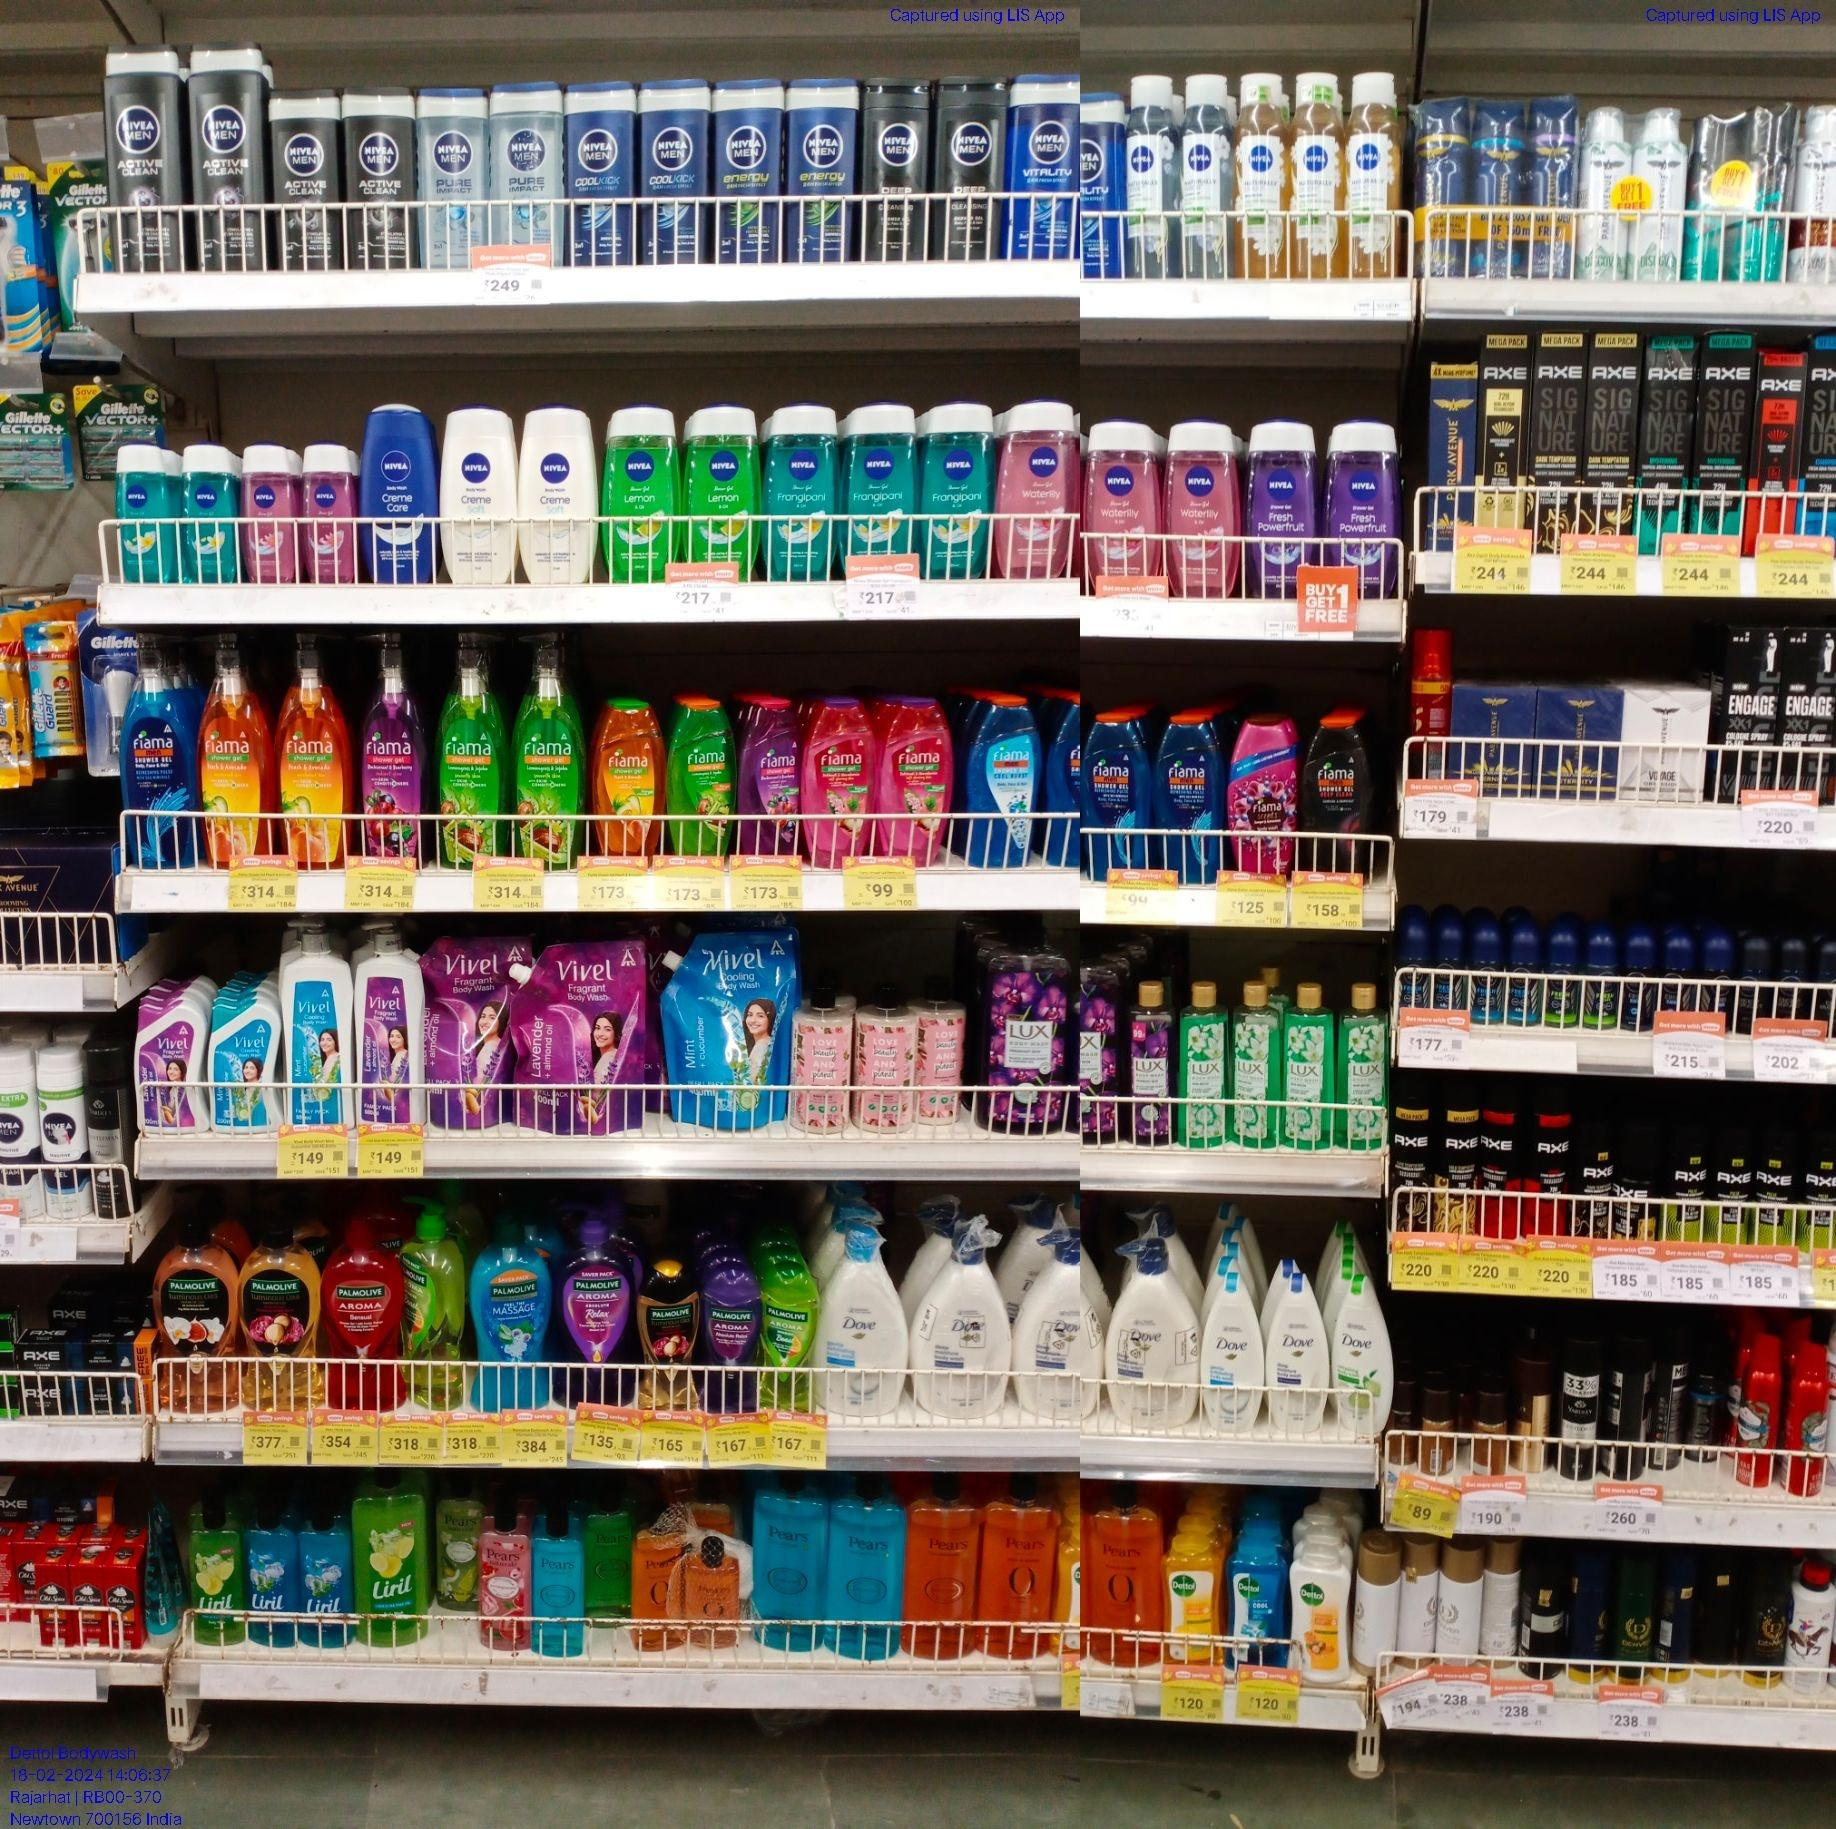Dettol_Bodywash_Cool: (1231, 1528, 1287, 1665)
Dettol_Bodywash_Refresh: (1163, 1526, 1225, 1665)
Dettol_Nourish_Body_Wash_250ML: (1290, 1543, 1349, 1682)
Dove_Deep_Moisture_Body_Wash_250ML: (1266, 1271, 1328, 1435)
Dove_Gentle_Exfoliating_Body_Wash_250ML: (1201, 1271, 1258, 1432)
Dove_Refreshing_Body_Wash_250ML: (1335, 1271, 1392, 1437)
Fiama_Shower_Gel_Lemongrass_and_Jojoba_250ML: (667, 695, 734, 858)
Fiama_Shower_Gel_Patchouli_and_Macadamia_250ML: (879, 697, 948, 864), (802, 698, 871, 863)
Fiama_Shower_Gel_Peach_and_Avocado_250ML: (590, 695, 660, 863)
Liril_Cooling_Mint_Body_Wash_250ML: (302, 1511, 350, 1648), (250, 1511, 295, 1648)
Liril_Lime_and_Tea_Tree_Oil_Body_Wash_250ML: (193, 1507, 245, 1646)
Lux_Black_Orchid_Scent_and_Juniper_Oil_Body_Wash_245ML: (1121, 976, 1176, 1146)
Lux_Body_Wash_Skin_Detox_Freesia_Scent_and_Alove_Vera_245ML: (1282, 976, 1340, 1151), (1225, 975, 1278, 1147), (1343, 980, 1392, 1152), (1179, 980, 1225, 1149)
Nivea_Shower_Gel_Frangipani_and_Oil_250ML: (762, 407, 834, 578), (921, 404, 988, 580), (841, 405, 915, 556)
Nivea_Shower_Gel_Fresh_Powerfruit_250ML: (1248, 417, 1320, 596), (1327, 419, 1395, 596)
Nivea_Shower_Gel_Lemon_and_Oil_250ML: (678, 402, 756, 569), (601, 410, 675, 585)
Nivea_Shower_Gel_Waterlily_and_Oil_250ML: (998, 404, 1070, 580), (1168, 422, 1235, 600), (1086, 420, 1156, 578)
Palmolive_Aroma_Morning_Tonic_Shower_Gel_250ML: (766, 1265, 809, 1414)
Palmolive_Aroma_Relax_250ML: (702, 1268, 762, 1417)
Palmolive_Luminous_Oils_Invigorating_Macadamia_Oil_With_Peony_250ML: (632, 1260, 700, 1415)
Pears_Naturale_Aloe_Vera_Body_Wash_250ML: (436, 1484, 477, 1611)
Pears_Pure_Glycerin_and_Lemon_Flower_Extracts_Body_Wash_250ML: (585, 1496, 632, 1626)
Pears_Pure_Glycerin_and_Mint_Extracts_Body_Wash_250ML: (529, 1511, 580, 1655)
